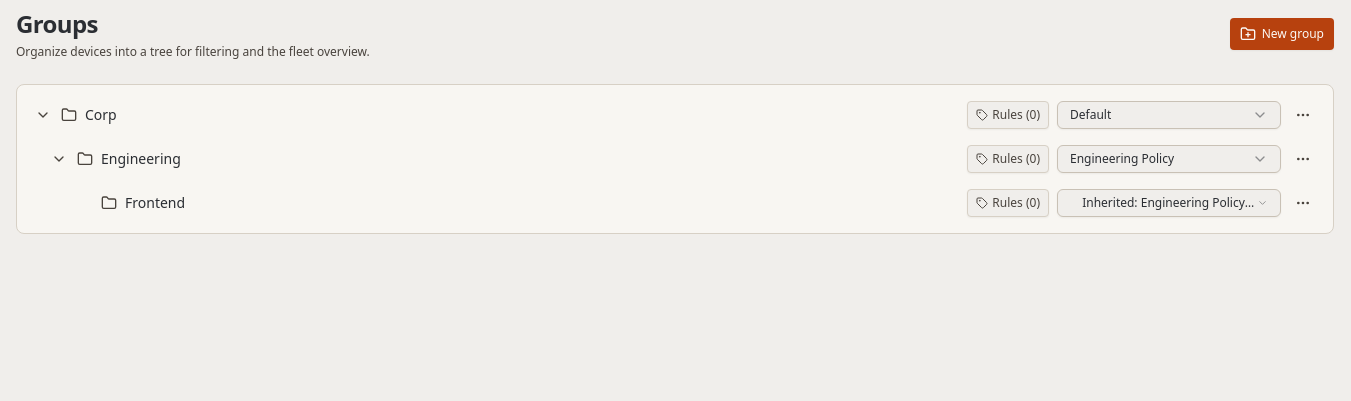
Test: GroupsView policy picker › staff can toggle Auto-Sort Rules area on a group
Check: the text "Corp" is shown, box [85,105,117,125]
Click the button with aria-label "Auto-sort rules for Corp".
click(1008, 115)  # box [967,101,1049,129]
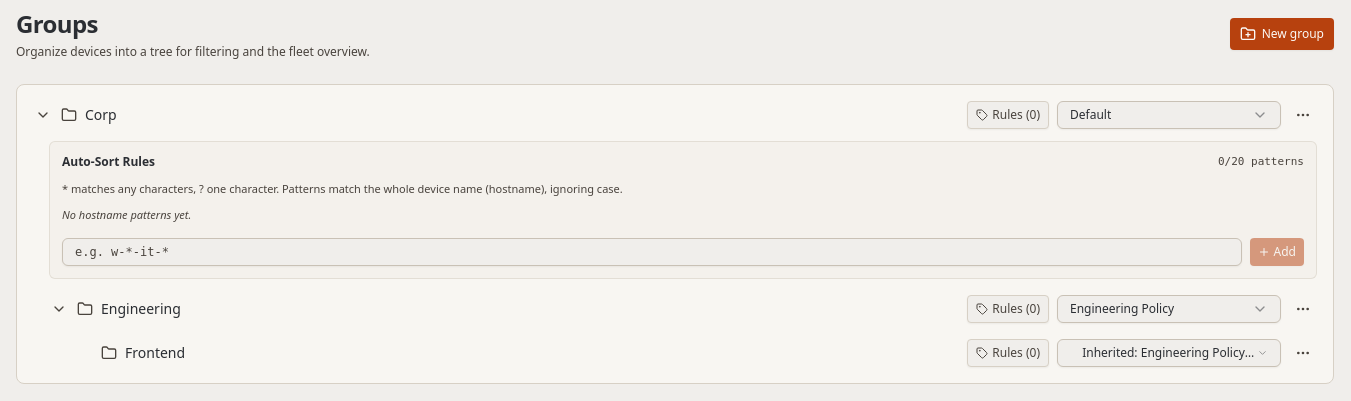
Check: the text "Auto-Sort Rules" is shown, box [62,154,155,170]
Check: the text "0/20 patterns" is shown, box [1218,155,1304,169]
